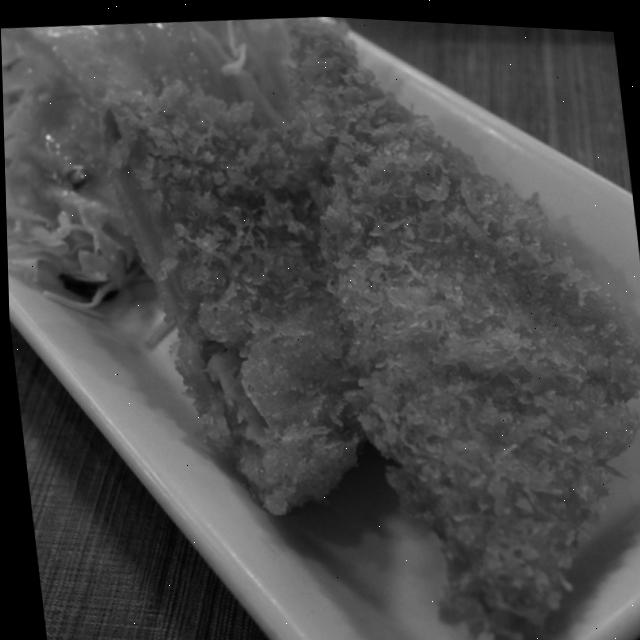炸货点心: (51, 2, 640, 640)
